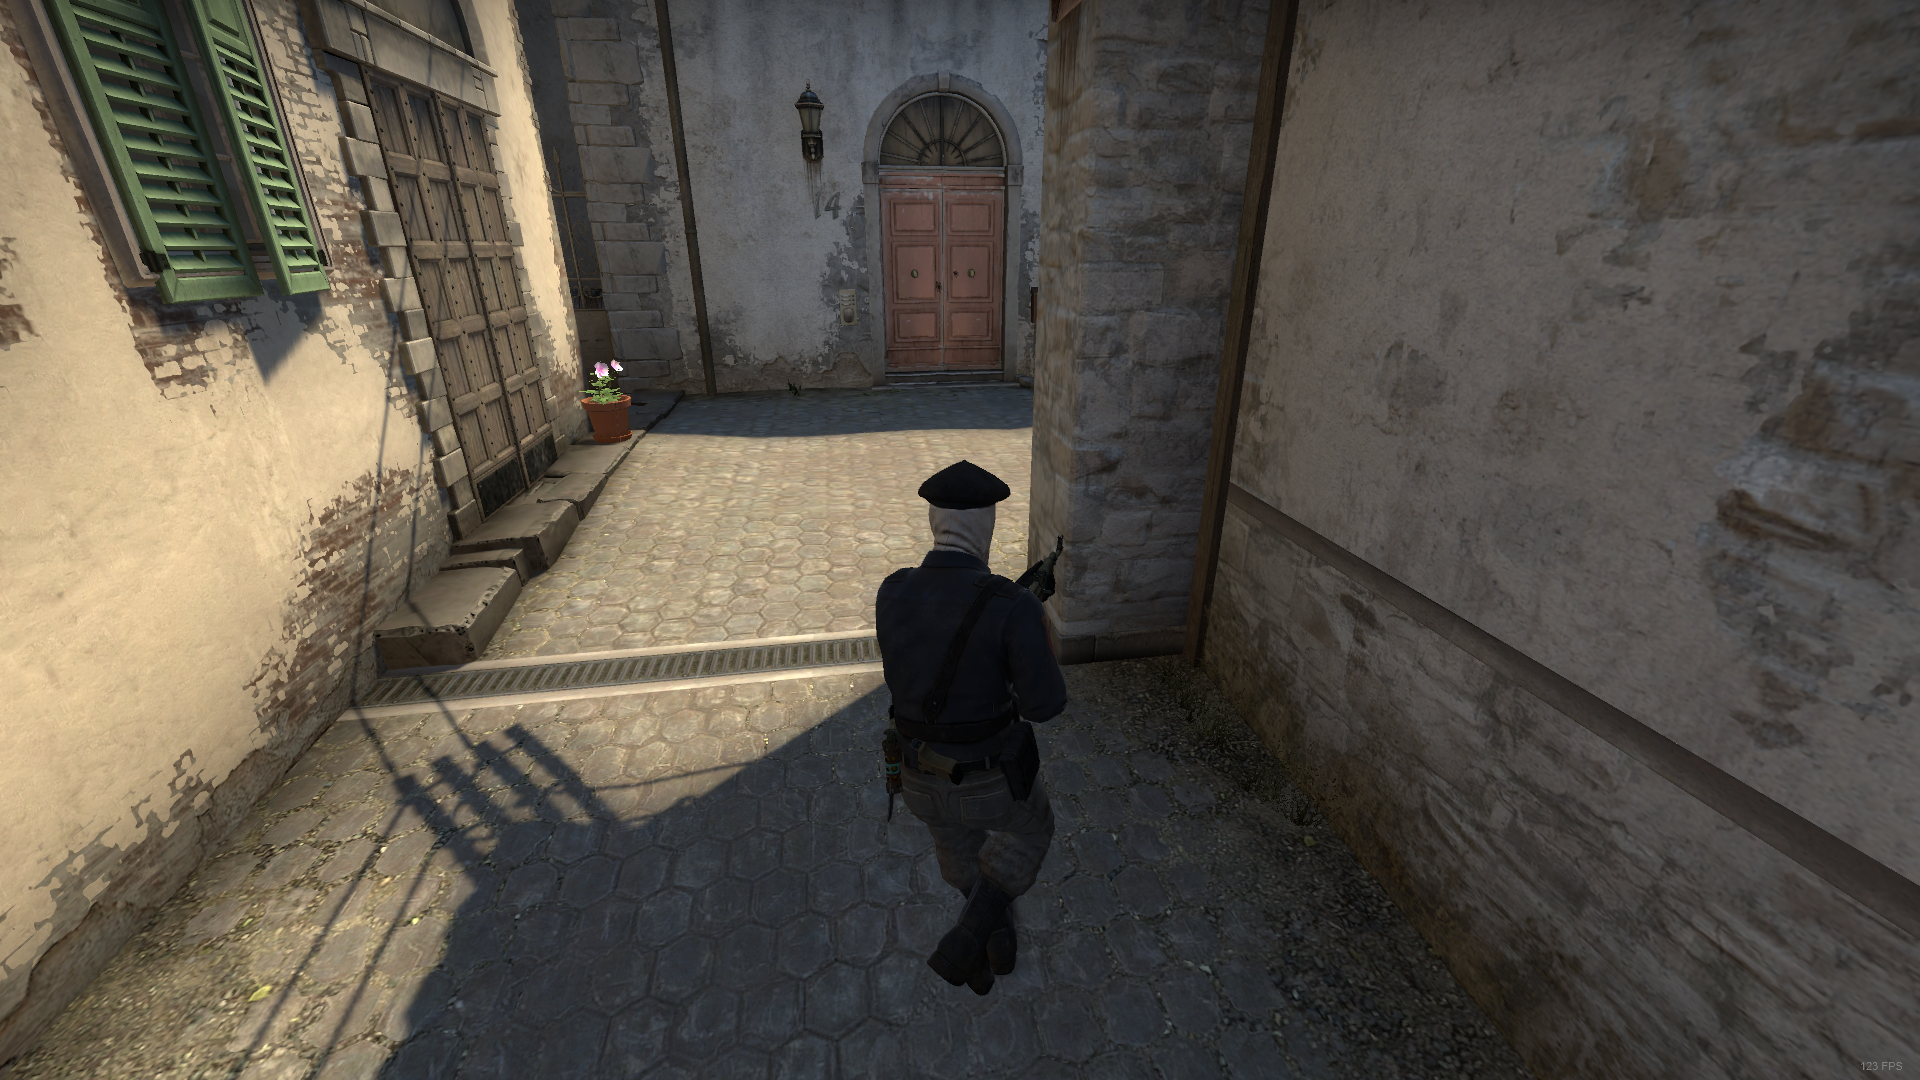t: (858, 462, 1072, 1010)
